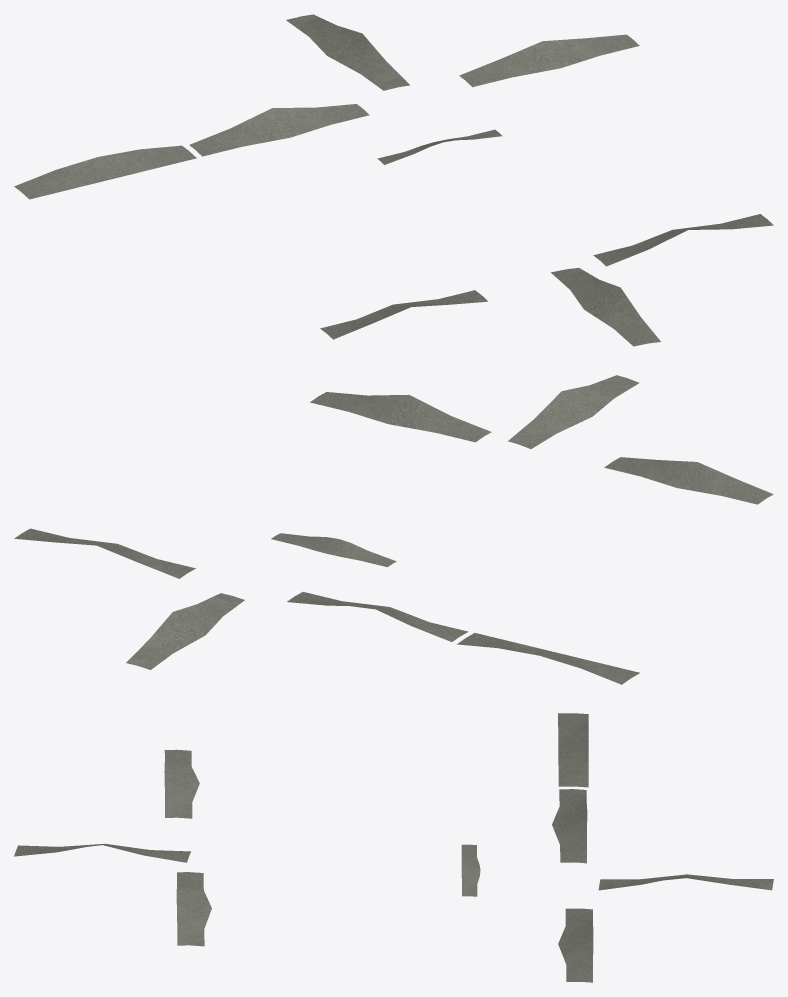
The picture shows the model from 3 angles, top to bottom: view 1: azimuth 30°, elevation 25°; view 2: azimuth 150°, elevation 25°; view 3: azimuth 270°, elevation 25°; orthographic projection. The views are drawn at different scales.
Visible parts, largest first — view 1: SM_HK_02_08; view 2: SM_HK_02_08; view 3: SM_HK_02_08.
Boxes of the visible parts, bbox=[...] form: SM_HK_02_08: bbox=[14, 14, 773, 346]; SM_HK_02_08: bbox=[14, 375, 773, 684]; SM_HK_02_08: bbox=[14, 713, 773, 982].
Bounding box in the file's own units: 4502 × 127 × 5367.
